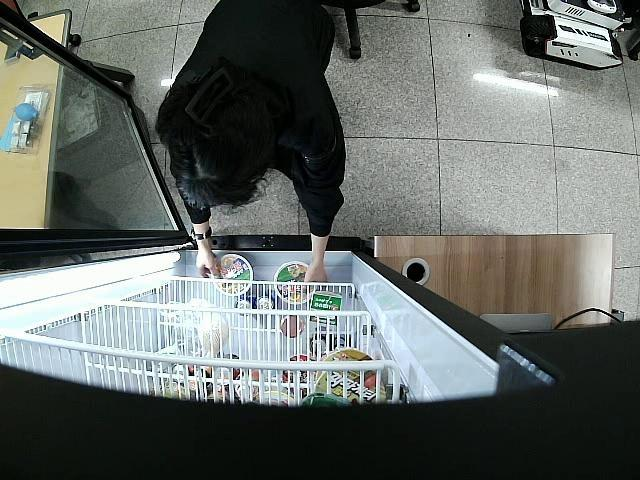09_yukGaeJang: (208, 252, 256, 298), (272, 259, 316, 304)
